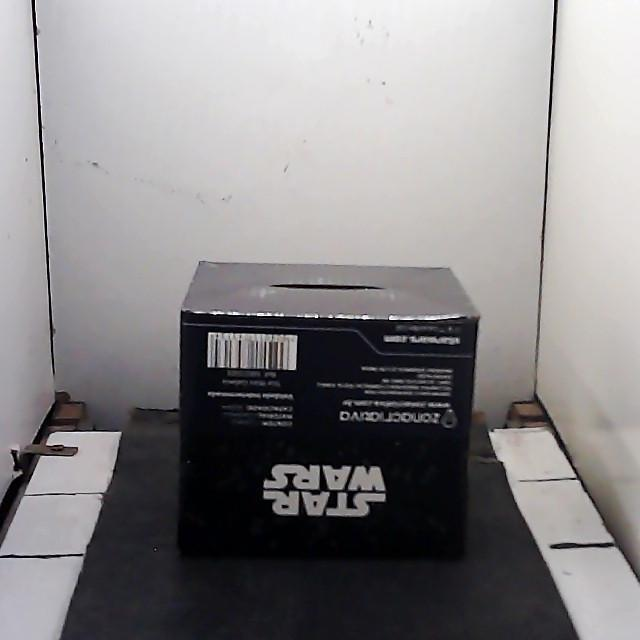papel: (178, 262, 478, 557)
